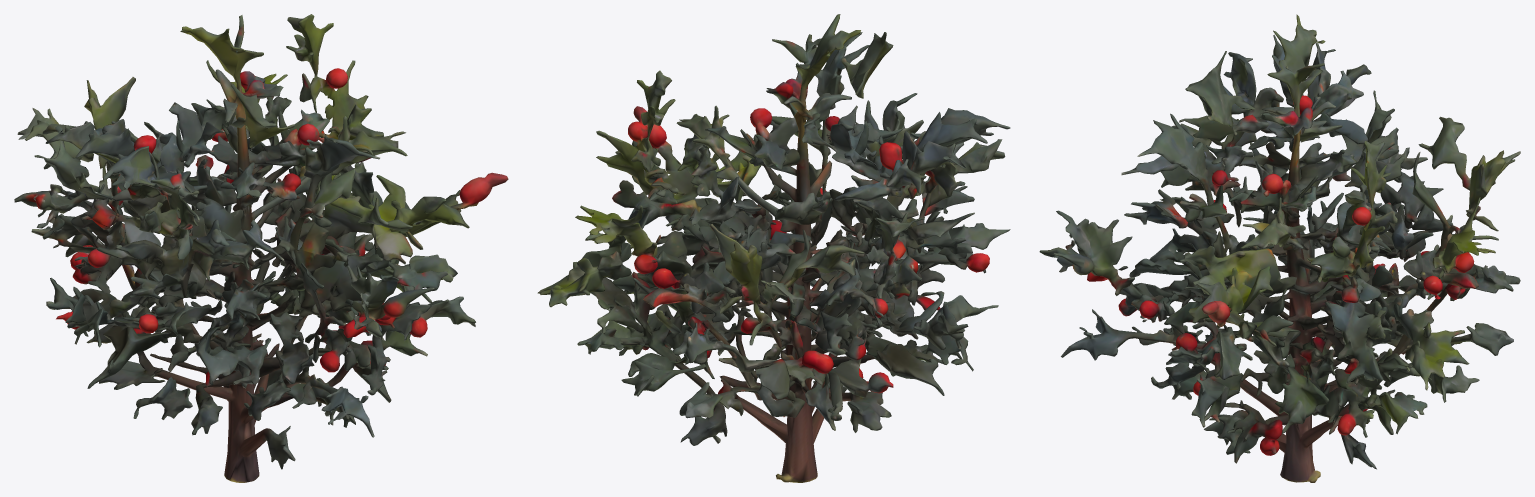
Rendered from nature-bush-holly.glb.
3 renders of one model, left to right at view 1: azimuth 30°, elevation 25°; view 2: azimuth 150°, elevation 25°; view 3: azimuth 270°, elevation 25°, orthographic. The views are drawn at different scales.
Parts seen in each view (by area): view 1: tripo_node_527f7f51-ac70-4050-a198-48eabebc9408; view 2: tripo_node_527f7f51-ac70-4050-a198-48eabebc9408; view 3: tripo_node_527f7f51-ac70-4050-a198-48eabebc9408.
Boxes of the visible parts, x1,y1,x2,y2 form: tripo_node_527f7f51-ac70-4050-a198-48eabebc9408: (14,14,508,482); tripo_node_527f7f51-ac70-4050-a198-48eabebc9408: (537,14,1010,482); tripo_node_527f7f51-ac70-4050-a198-48eabebc9408: (1039,14,1520,482).
Size of the model in its own units: 1.08 by 1.2 by 1.21.
1 material, 1 textured.
